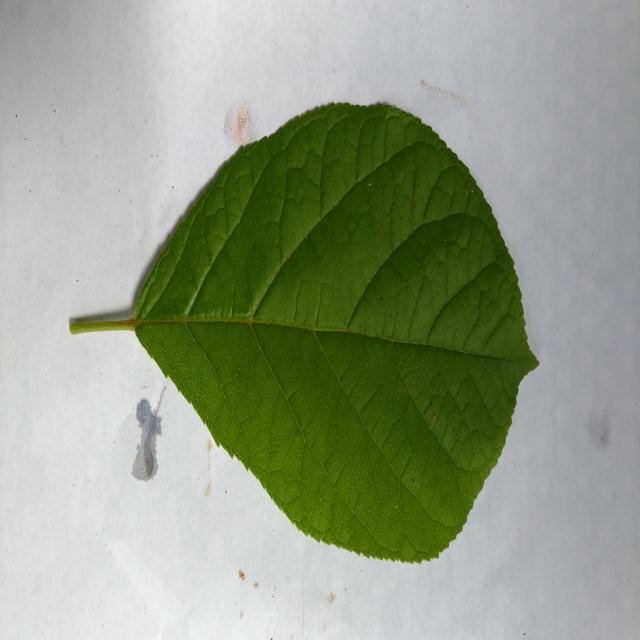padri: (136, 104, 535, 560)
